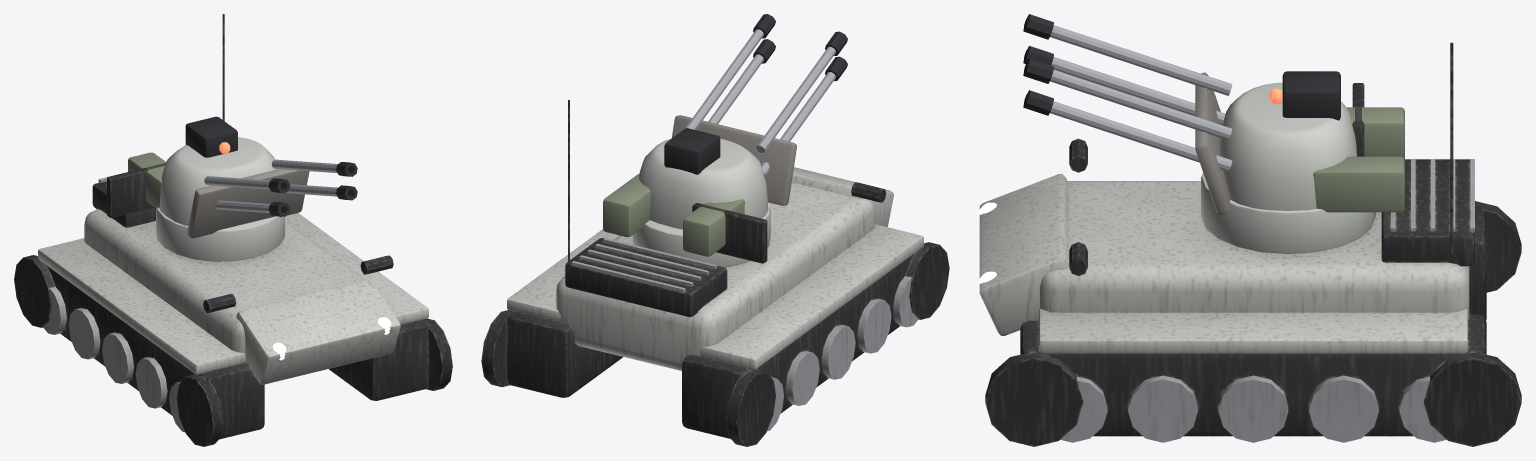
The picture shows the model from 3 angles, left to right: view 1: azimuth 30°, elevation 25°; view 2: azimuth 150°, elevation 25°; view 3: azimuth 270°, elevation 25°; orthographic projection. The views are drawn at different scales.
Visible parts, largest first — view 1: Hull, Turret, Barrel; view 2: Hull, Turret, Barrel; view 3: Hull, Turret, Barrel.
Boxes of the visible parts, x1,y1,x2,y2 form: Hull: (14, 14, 452, 446); Turret: (128, 116, 309, 261); Barrel: (204, 159, 357, 216); Hull: (481, 100, 949, 446); Turret: (603, 115, 796, 267); Barrel: (685, 14, 847, 176); Hull: (978, 42, 1521, 446); Turret: (1195, 71, 1404, 253); Barrel: (1023, 14, 1232, 171).
Bounding box in the file's own units: 3.2 × 3.47 × 4.66.
11 materials, 4 textured.
